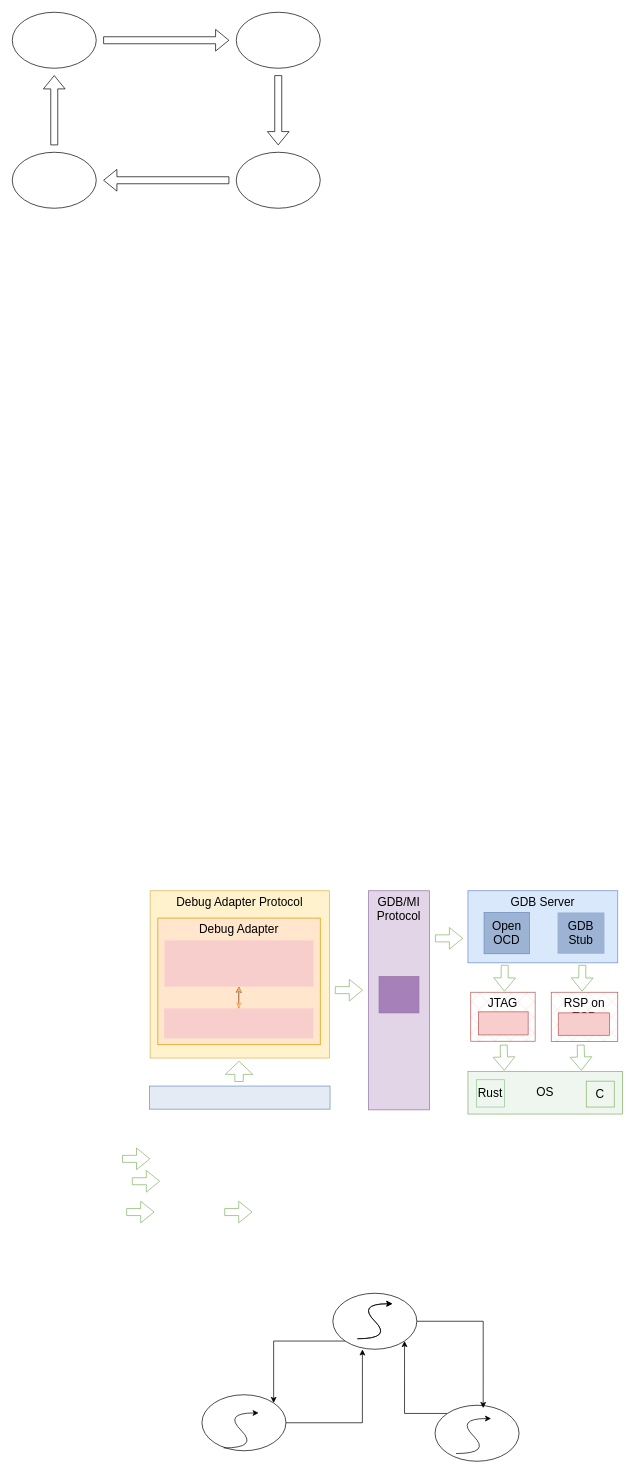
Image size: 635x1474. Some labels were removed from this diagram. Each missing label, with the centre of its shape:
"Breakpoint Group Management Module" goes at (238,963).
"GDB" goes at (398,994).
"Hardware" goes at (503,1023).
"IDE" goes at (239,1097).
"OSStateMachine" goes at (238,1023).
"QEMU" goes at (583,1023).
